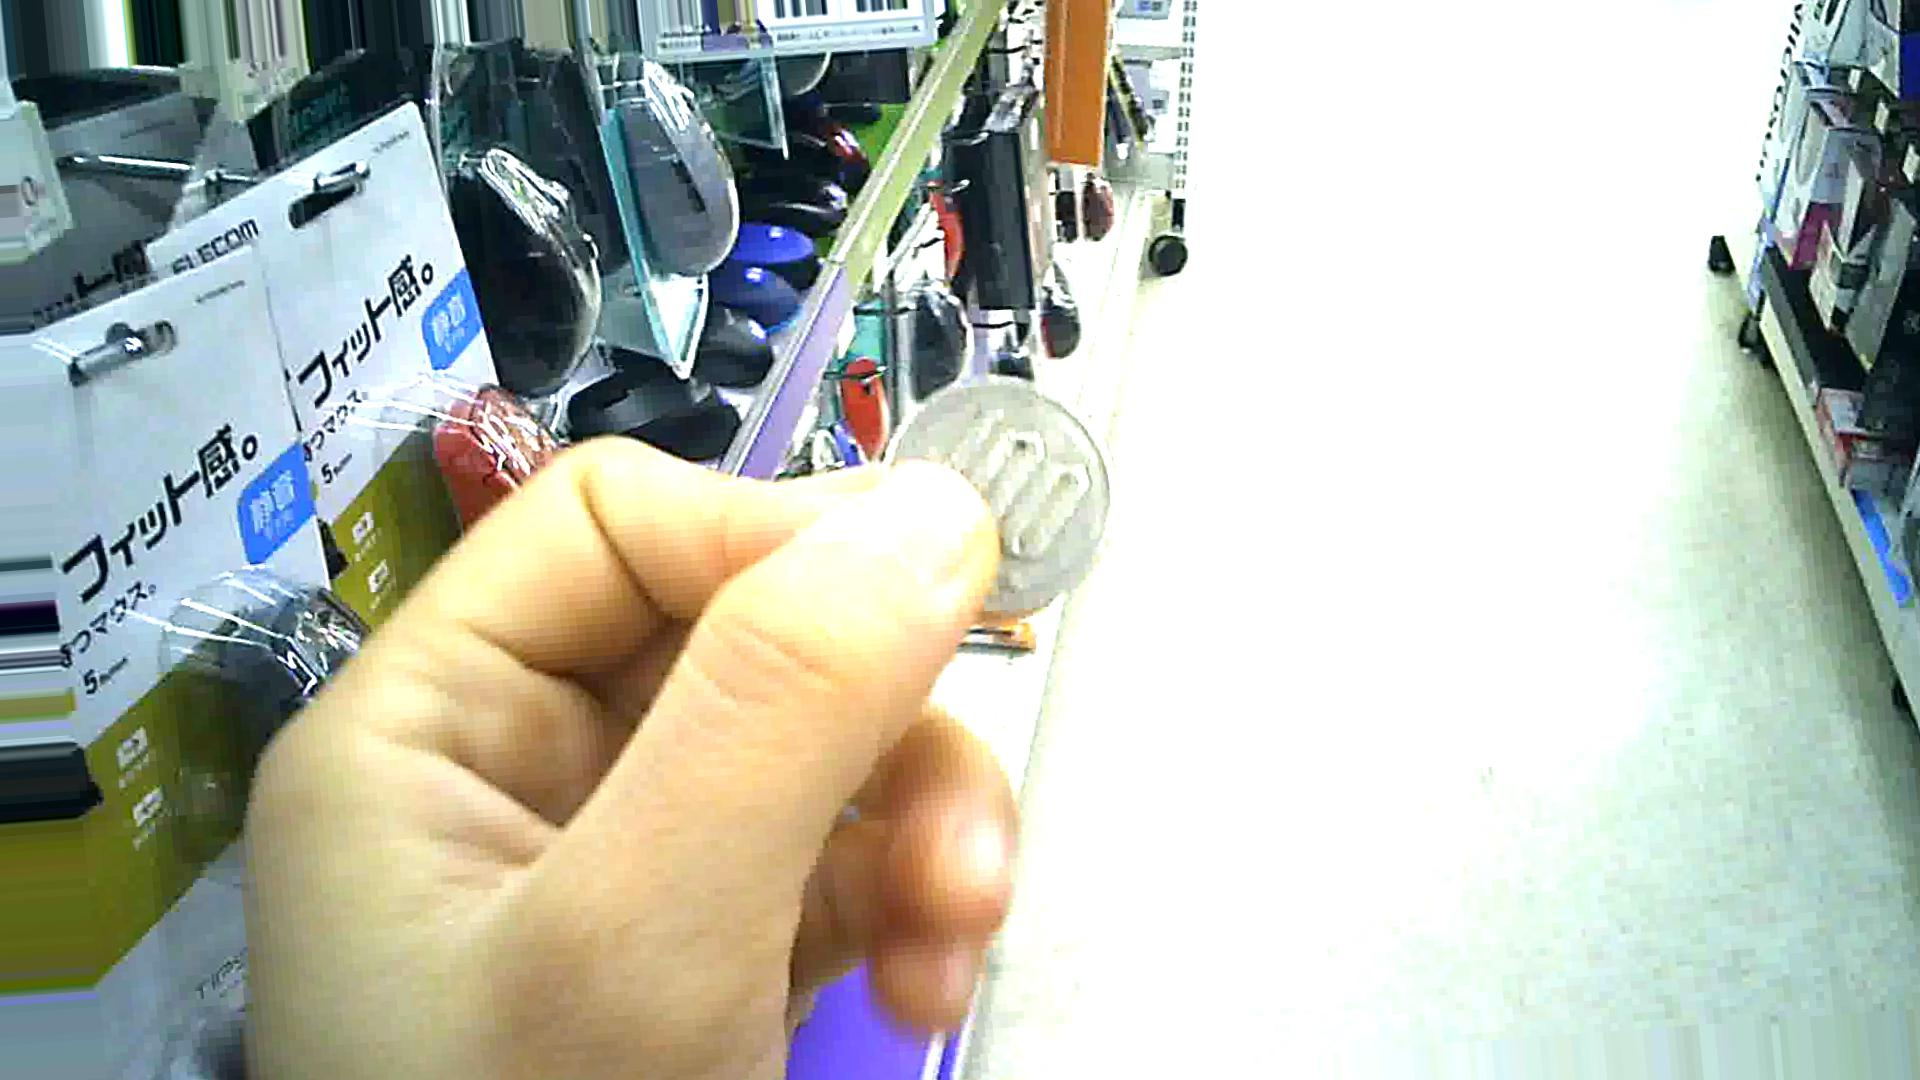100 Yen: (876, 380, 1102, 605)
